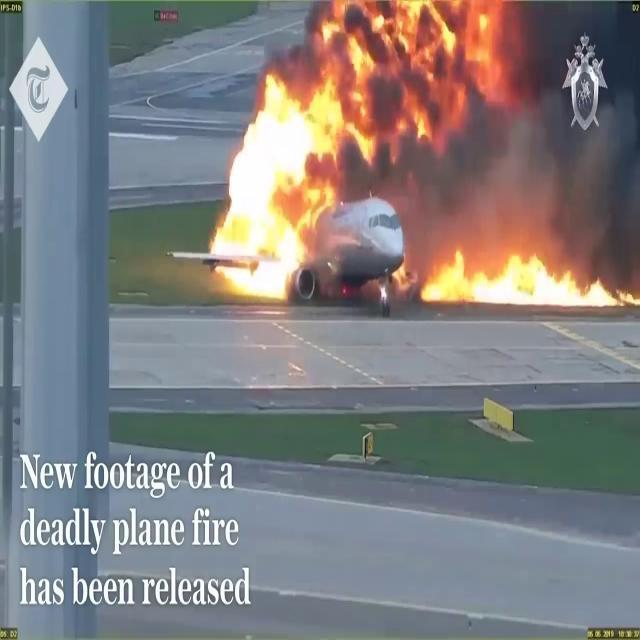Fire: (206, 1, 636, 303), (396, 238, 630, 312)
Smoke: (202, 1, 640, 310)
